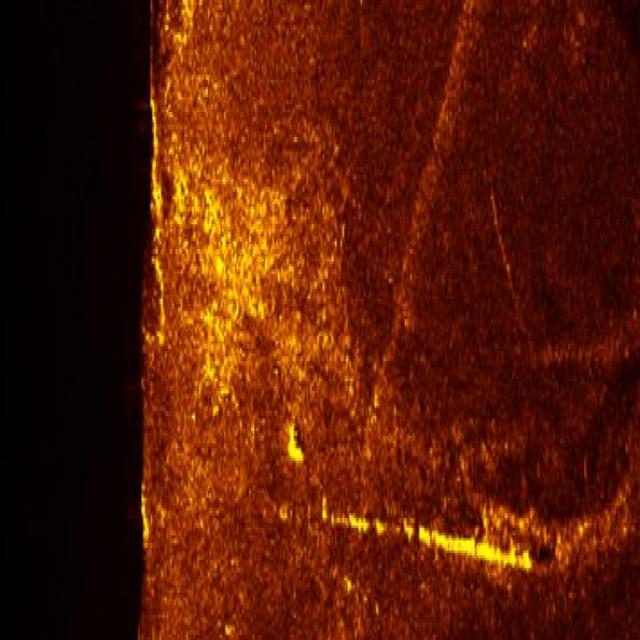other: (320, 476, 535, 600)
